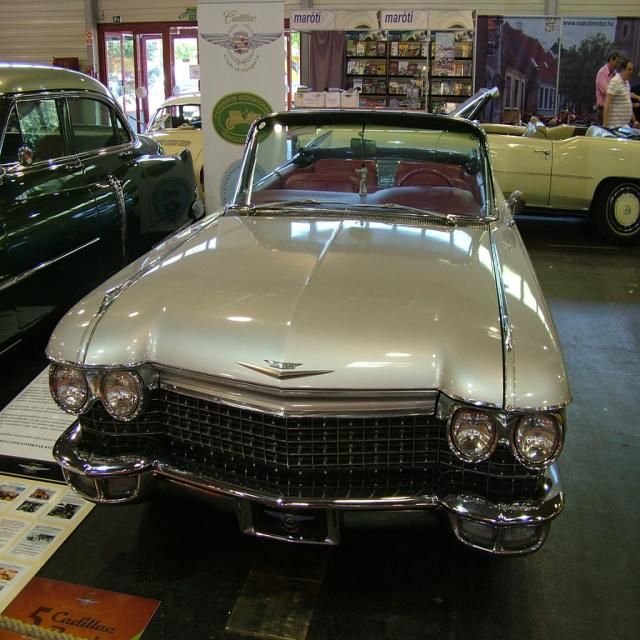car: (48, 101, 556, 603), (0, 59, 197, 363), (297, 76, 639, 242), (142, 91, 307, 209)
